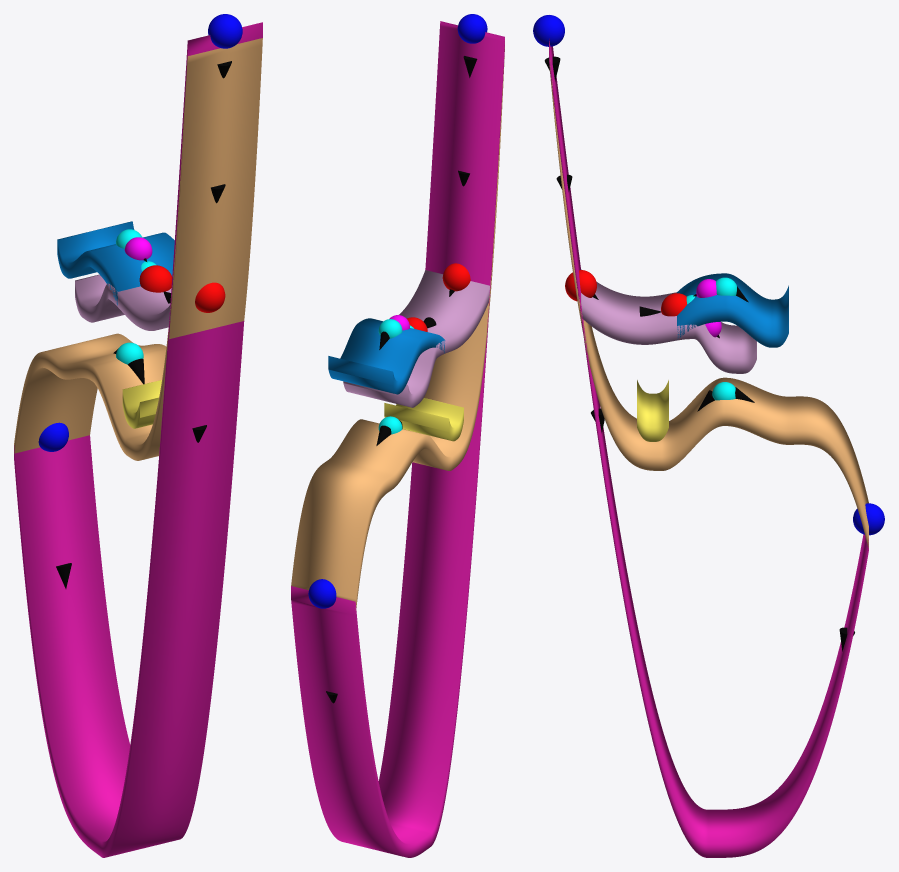
File: PES_3D_plot.gltf
3 views of the same model, side by side, from view 1: azimuth 30°, elevation 25°; view 2: azimuth 150°, elevation 25°; view 3: azimuth 270°, elevation 25° (orthographic). The views are drawn at different scales.
Visible parts, largest first — view 1: Renderer Node; view 2: Renderer Node; view 3: Renderer Node.
Part boxes in pixels (<box>): Renderer Node: <box>14,14,262,857</box>; Renderer Node: <box>291,14,504,857</box>; Renderer Node: <box>533,15,884,857</box>.
Bounding box in the file's own units: 0.5 × 5.69 × 2.2.
